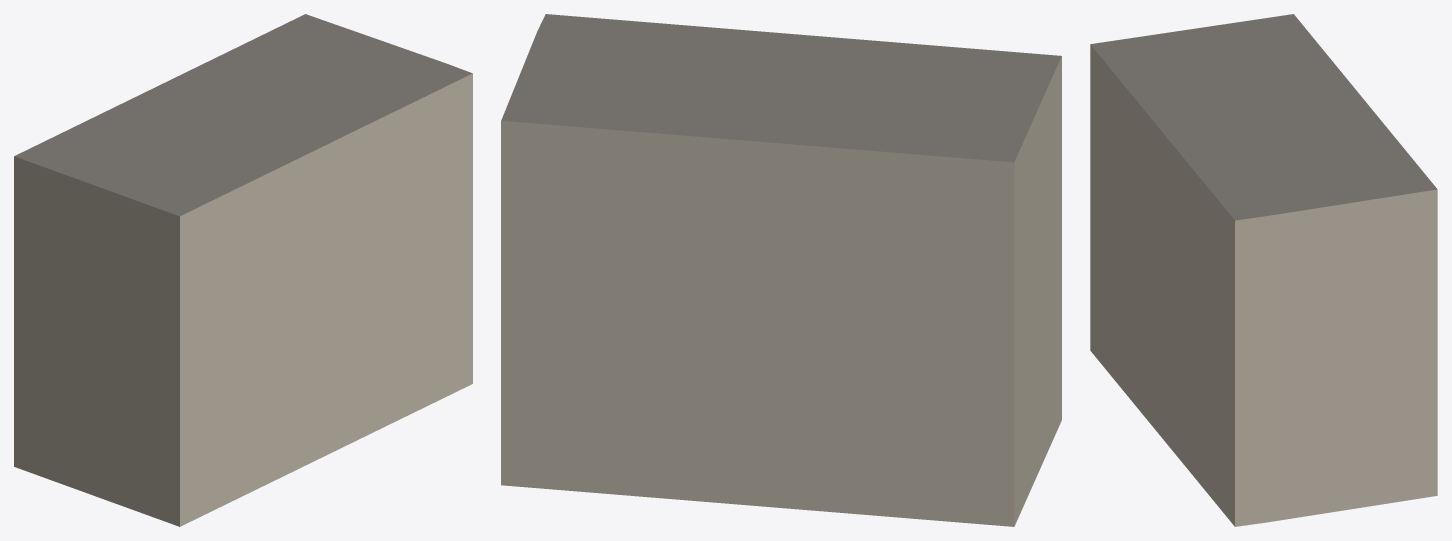
3 views of the same model, side by side, from view 1: azimuth 30°, elevation 25°; view 2: azimuth 150°, elevation 25°; view 3: azimuth 270°, elevation 25° (orthographic). The views are drawn at different scales.
Parts seen in each view (by area): view 1: HP-w389701896; view 2: HP-w389701896; view 3: HP-w389701896.
Boxes of the visible parts, x1,y1,x2,y2 form: HP-w389701896: [14, 14, 472, 526]; HP-w389701896: [501, 14, 1061, 526]; HP-w389701896: [1090, 14, 1437, 526].
Bounding box in the file's own units: 26.02 × 18 × 18.49.
